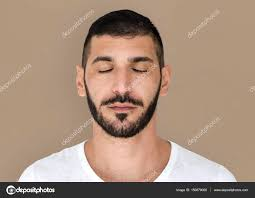middle_eastern_male: (85, 28, 172, 145)
